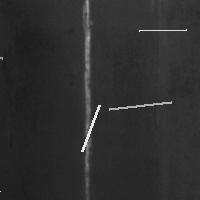scratches: (79, 1, 97, 199), (77, 100, 104, 156), (104, 97, 176, 114), (134, 25, 191, 36), (0, 35, 7, 63), (0, 162, 5, 197)
